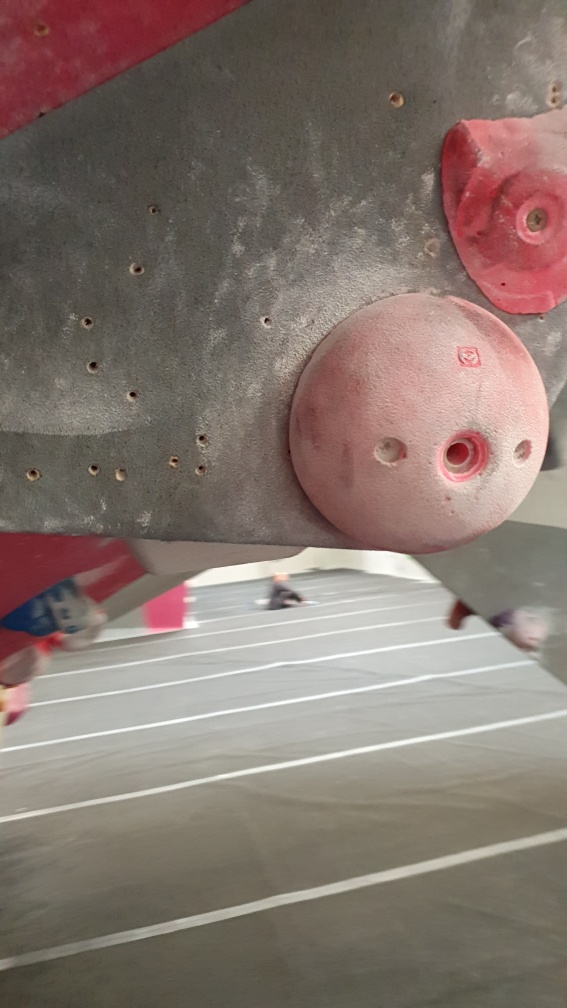Jug: (1, 579, 108, 643)
Sloper: (283, 287, 551, 562)
